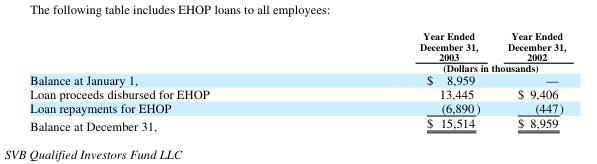table: (29, 28, 565, 133)
table column: (29, 28, 313, 133), (313, 28, 493, 133), (493, 28, 565, 133)
table column header: (29, 28, 565, 72)
table row: (29, 28, 565, 61), (29, 114, 565, 133), (29, 99, 565, 114), (29, 85, 565, 99), (29, 72, 565, 85), (29, 61, 565, 72)
table spanning cell: (313, 61, 565, 72)
